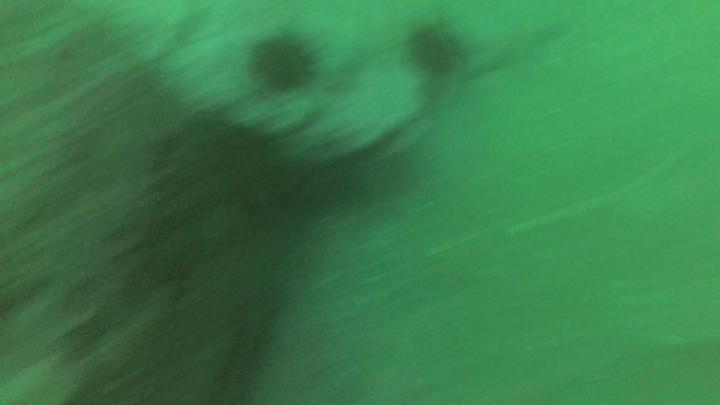echinus: (249, 33, 317, 99), (408, 22, 467, 79)
